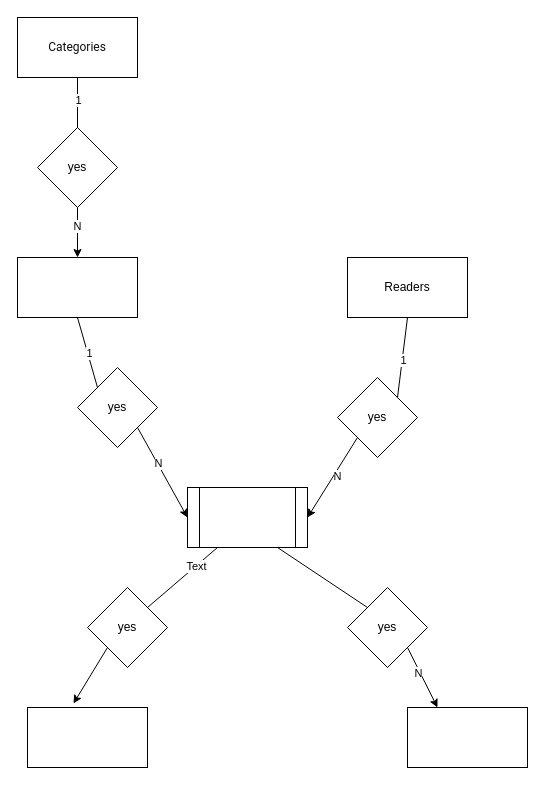
This 545x785 diagram has some shape labels left out. Here are the shapes that lost their labels. From the top down, the box of each, then its label:
(16, 256, 138, 318): Books
(186, 486, 308, 548): Borrowing
(26, 706, 148, 768): Returning
(406, 706, 528, 768): Fines
